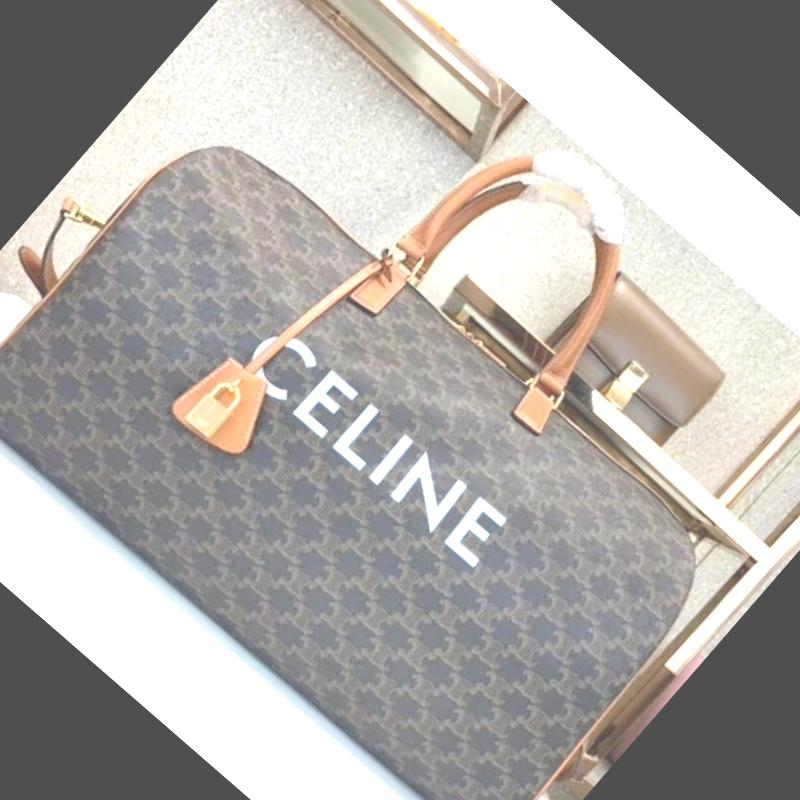CELINE: (240, 320, 514, 570)
